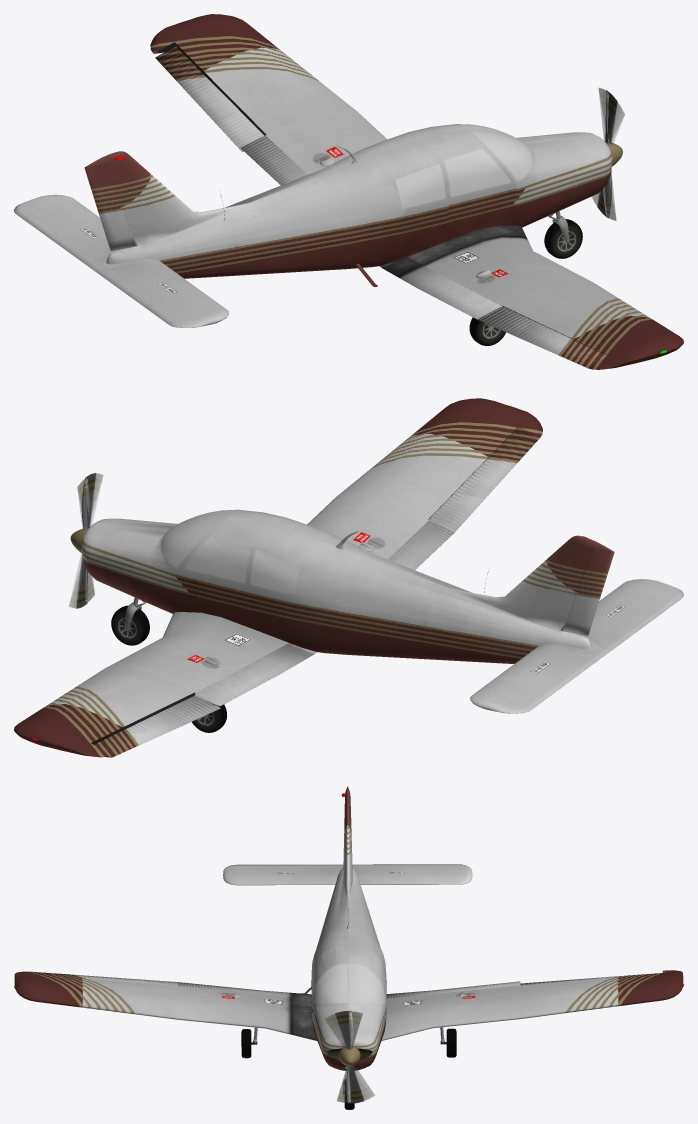
3 renders of one model, top to bottom at view 1: azimuth 30°, elevation 25°; view 2: azimuth 150°, elevation 25°; view 3: azimuth 270°, elevation 25°, orthographic. The views are drawn at different scales.
Visible parts, largest first — view 1: fuselage, ailes, ailes2, porteG, aileronG, vitres, aileronD, voletD, direction, vitreporteG, voletG, propdisc (+4 smaller); view 2: fuselage, ailes, ailes2, vitres, aileronD, voletG, aileronG, direction, voletD, propdisc, roueA, propblur (+1 smaller); view 3: ailes, fuselage, ailes2, vitres, propdisc, propblur, voletG, voletD, aileronD.
Part boxes in pixels (x1=…): fuselage: x1=103, y1=124, x2=612, y2=278; ailes: x1=150, y1=14, x2=683, y2=369; ailes2: x1=14, y1=194, x2=228, y2=327; porteG: x1=435, y1=138, x2=516, y2=231; aileronG: x1=155, y1=46, x2=264, y2=151; vitres: x1=395, y1=124, x2=532, y2=208; aileronD: x1=477, y1=306, x2=606, y2=368; voletD: x1=382, y1=257, x2=501, y2=319; direction: x1=84, y1=157, x2=134, y2=250; vitreporteG: x1=444, y1=149, x2=510, y2=196; voletG: x1=241, y1=135, x2=307, y2=185; propdisc: x1=592, y1=88, x2=624, y2=220; fuselage: x1=81, y1=509, x2=595, y2=663; ailes: x1=14, y1=398, x2=542, y2=757; ailes2: x1=470, y1=579, x2=683, y2=713; vitres: x1=162, y1=509, x2=300, y2=594; aileronD: x1=428, y1=427, x2=539, y2=532; voletG: x1=195, y1=643, x2=313, y2=706; aileronG: x1=94, y1=695, x2=220, y2=757; direction: x1=563, y1=541, x2=614, y2=635; voletD: x1=387, y1=520, x2=453, y2=570; propdisc: x1=69, y1=473, x2=103, y2=607; roueA: x1=111, y1=605, x2=149, y2=645; propblur: x1=76, y1=473, x2=96, y2=608; ailes: x1=14, y1=970, x2=683, y2=1040; fuselage: x1=311, y1=788, x2=386, y2=1070; ailes2: x1=223, y1=864, x2=472, y2=885; vitres: x1=312, y1=942, x2=385, y2=1004; propdisc: x1=325, y1=1011, x2=374, y2=1103; propblur: x1=335, y1=1010, x2=364, y2=1103; voletG: x1=386, y1=981, x2=520, y2=998; voletD: x1=177, y1=982, x2=311, y2=999; aileronD: x1=35, y1=972, x2=177, y2=985.
Bounding box in the file's own units: 7.15 × 2.73 × 10.55.
Materials: 5 (2 with a texture image).
